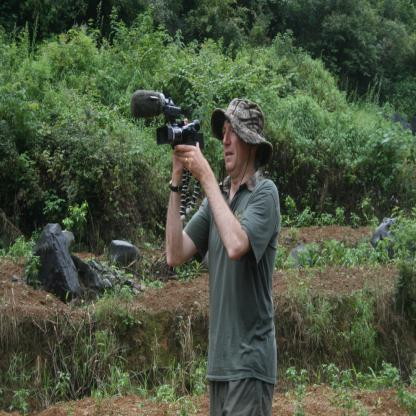Camera: (132, 91, 207, 157)
